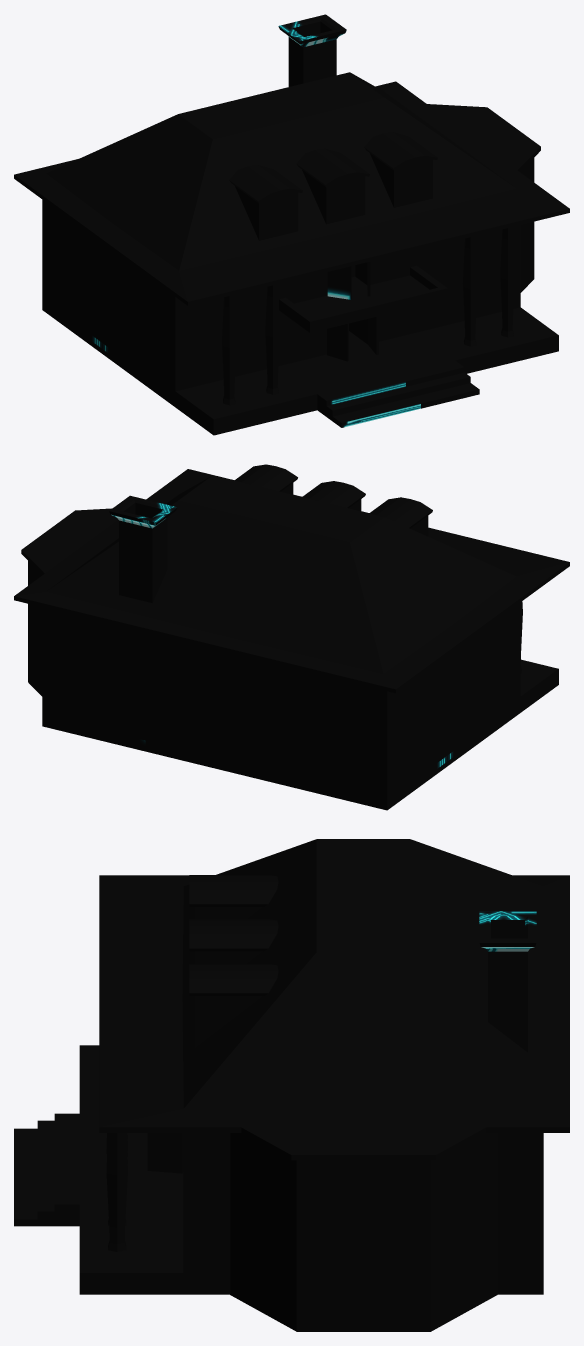
The model's file is Building_LargeHouse_UNWRAPPED_01.fbx.
3 renders of one model, top to bottom at view 1: azimuth 30°, elevation 25°; view 2: azimuth 150°, elevation 25°; view 3: azimuth 270°, elevation 25°, orthographic. The views are drawn at different scales.
Visible parts, largest first — view 1: Building_LargeHouse_01; view 2: Building_LargeHouse_01; view 3: Building_LargeHouse_01.
Boxes of the visible parts, x1,y1,x2,y2 form: Building_LargeHouse_01: [14, 14, 569, 435]; Building_LargeHouse_01: [14, 464, 569, 810]; Building_LargeHouse_01: [14, 839, 569, 1331].
Size of the model in its own units: 2756 by 1423 by 2315.
